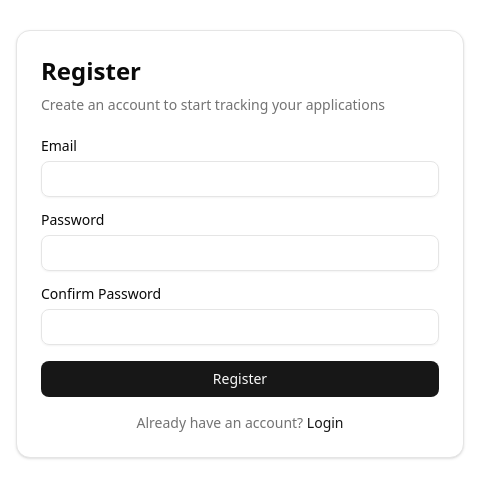
Test case: RegisterPage › shows error when password is too short
Type "test@example.com" into the field labelled "Email" at (240,179), box [41,161,439,197]
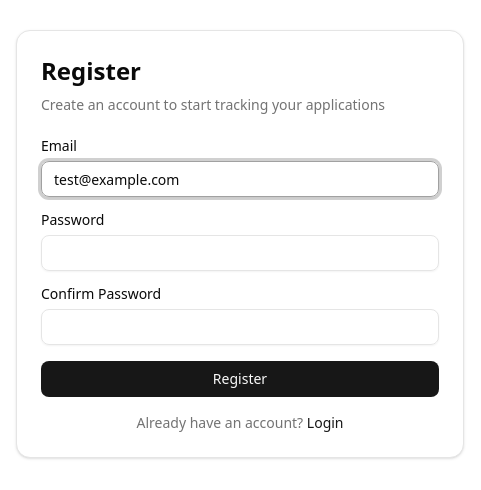
Type "12345" into the password field labelled "Password" at (240,253), box [41,235,439,271]
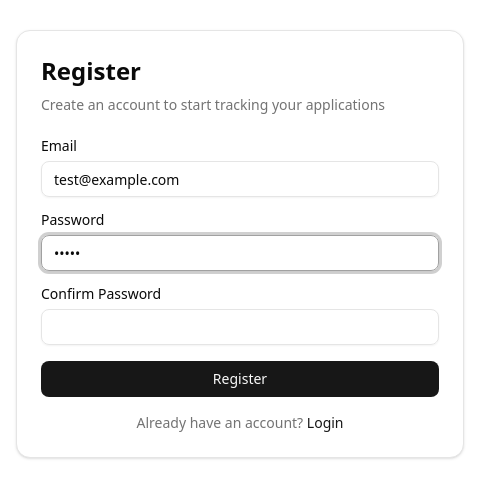
Type "12345" into the password field labelled "Confirm Password" at (240,327), box [41,309,439,345]
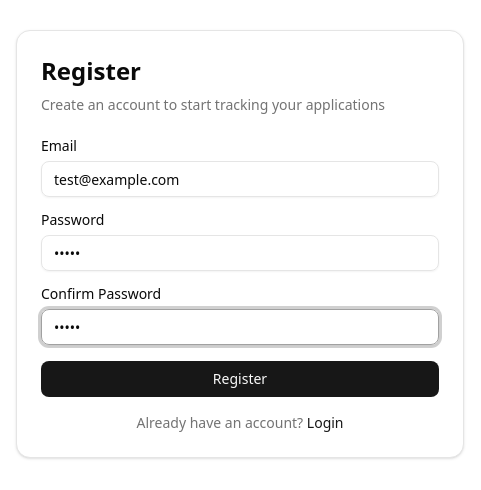
Click the button "Register" at (240,379), box [41,361,439,397]
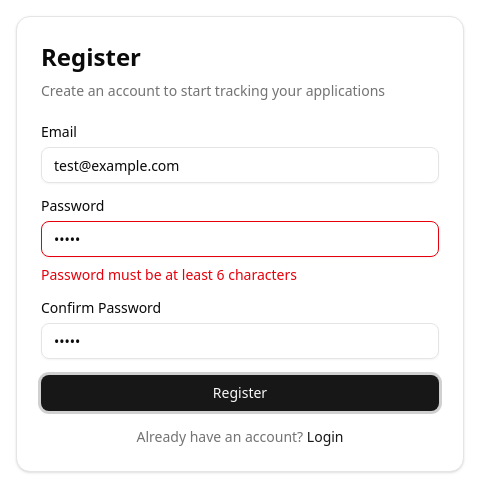
Result: the text "Password must be at least 6 characters" is shown at [41,265,297,284]
